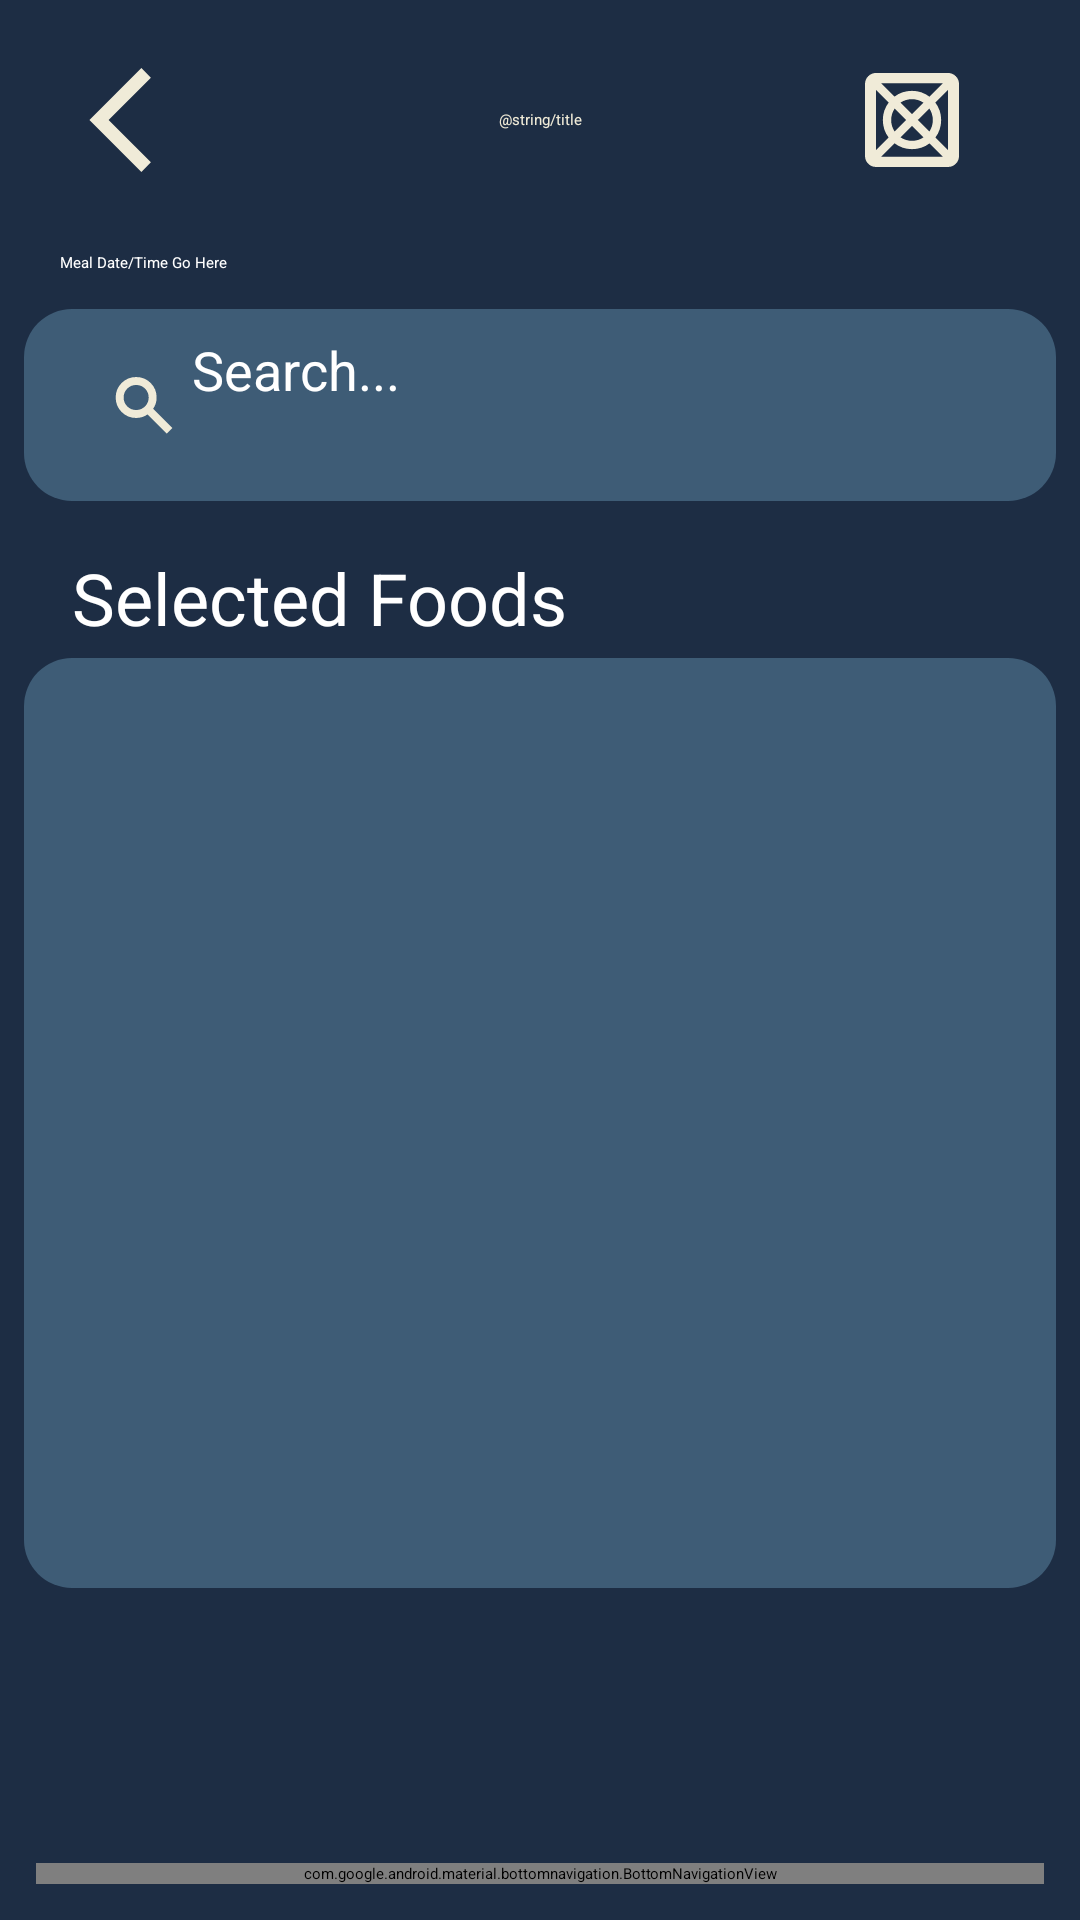

Screen size 1080x1920. Icon name, then its center in pixels as (x,y):
back arrow: (120,120)
